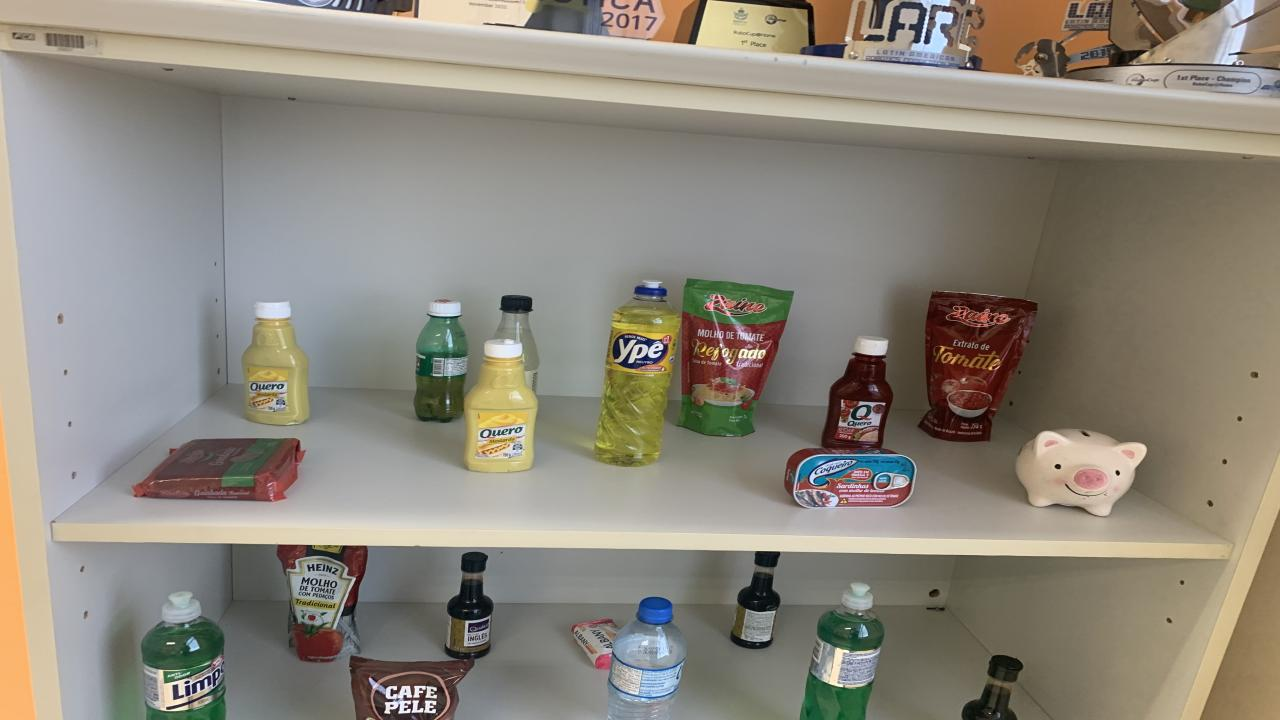Coffee-Pantry_Items: (350, 656, 475, 720)
Detergent-Cleanup_Items: (595, 281, 680, 467), (140, 592, 225, 720)
English_Sauce-Pantry_Items: (445, 551, 492, 660), (730, 551, 780, 649), (962, 654, 1022, 720)
Guarana-Drinks: (415, 300, 468, 422)
Guava-Snacks: (132, 439, 305, 501)
Ketchup-Pantry_Items: (820, 336, 892, 448)
Mustard-Pantry_Items: (465, 339, 538, 472), (242, 302, 310, 426)
Pig_Safe-Miscellaneous: (1015, 429, 1148, 516)
Soap-Cleanup_Items: (572, 619, 620, 669)
Soda-Drinks: (495, 294, 540, 392)
Tomato_Sauce-Pantry_Items: (918, 291, 1038, 442), (678, 279, 792, 435), (278, 546, 368, 662)
Tuna_Can-Pantry_Items: (785, 448, 918, 508)
Water_Bottle-Drinks: (608, 596, 688, 720)
